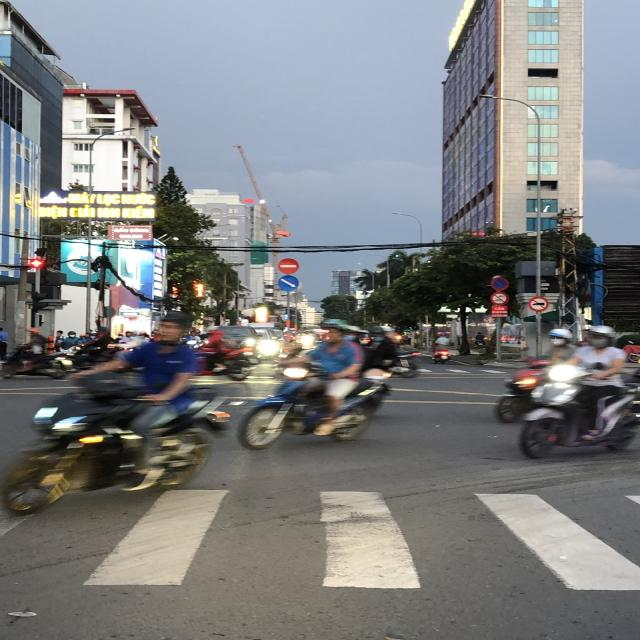Bien bao cam di nguoc chieu: (278, 256, 300, 274)
Bien bao cam do xe: (489, 276, 510, 291)
Bien bao cam xe so-mi ro-mooc: (528, 296, 550, 312)
Bien bao huong phai di vong chuong ngai vat: (277, 275, 300, 293)
